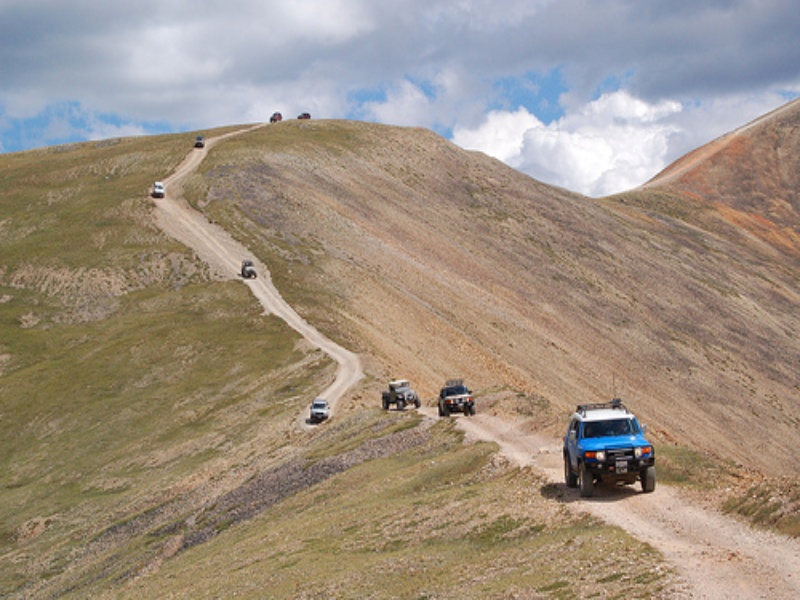car: (563, 400, 655, 495), (383, 379, 422, 411), (437, 385, 473, 417), (311, 399, 329, 421), (241, 260, 255, 279), (154, 182, 164, 199)
